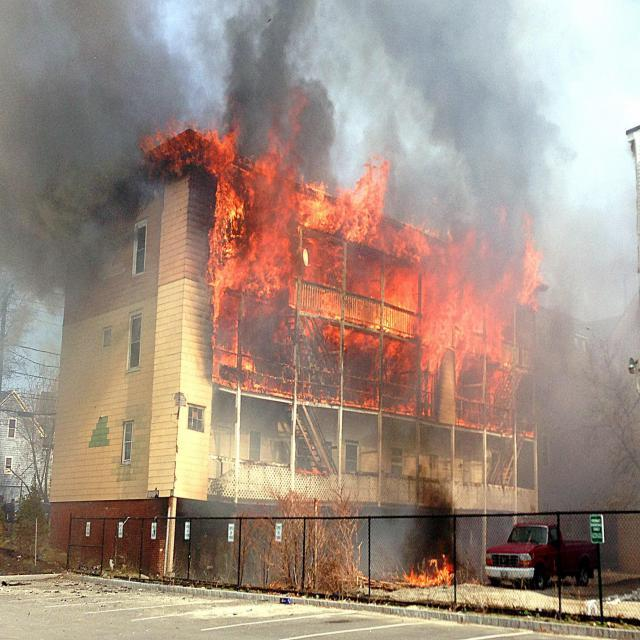Fire: (154, 128, 596, 422)
